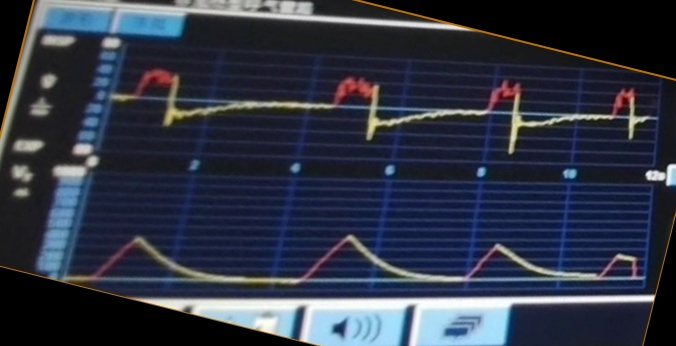Accumulation Flow: (117, 65, 646, 161)
Volume: (82, 195, 640, 295)
